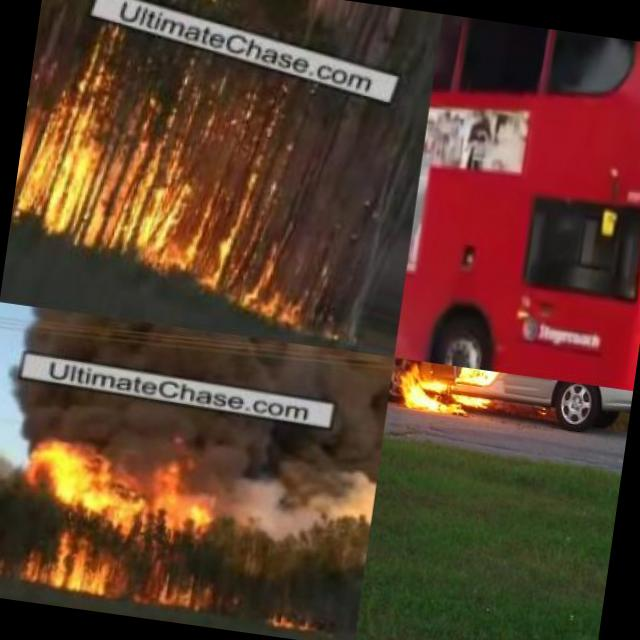fire: (7, 90, 210, 278), (22, 432, 136, 515), (15, 532, 126, 596), (143, 457, 217, 539), (137, 565, 215, 613), (266, 604, 326, 636)
smoke: (198, 442, 378, 545), (434, 14, 640, 99)
